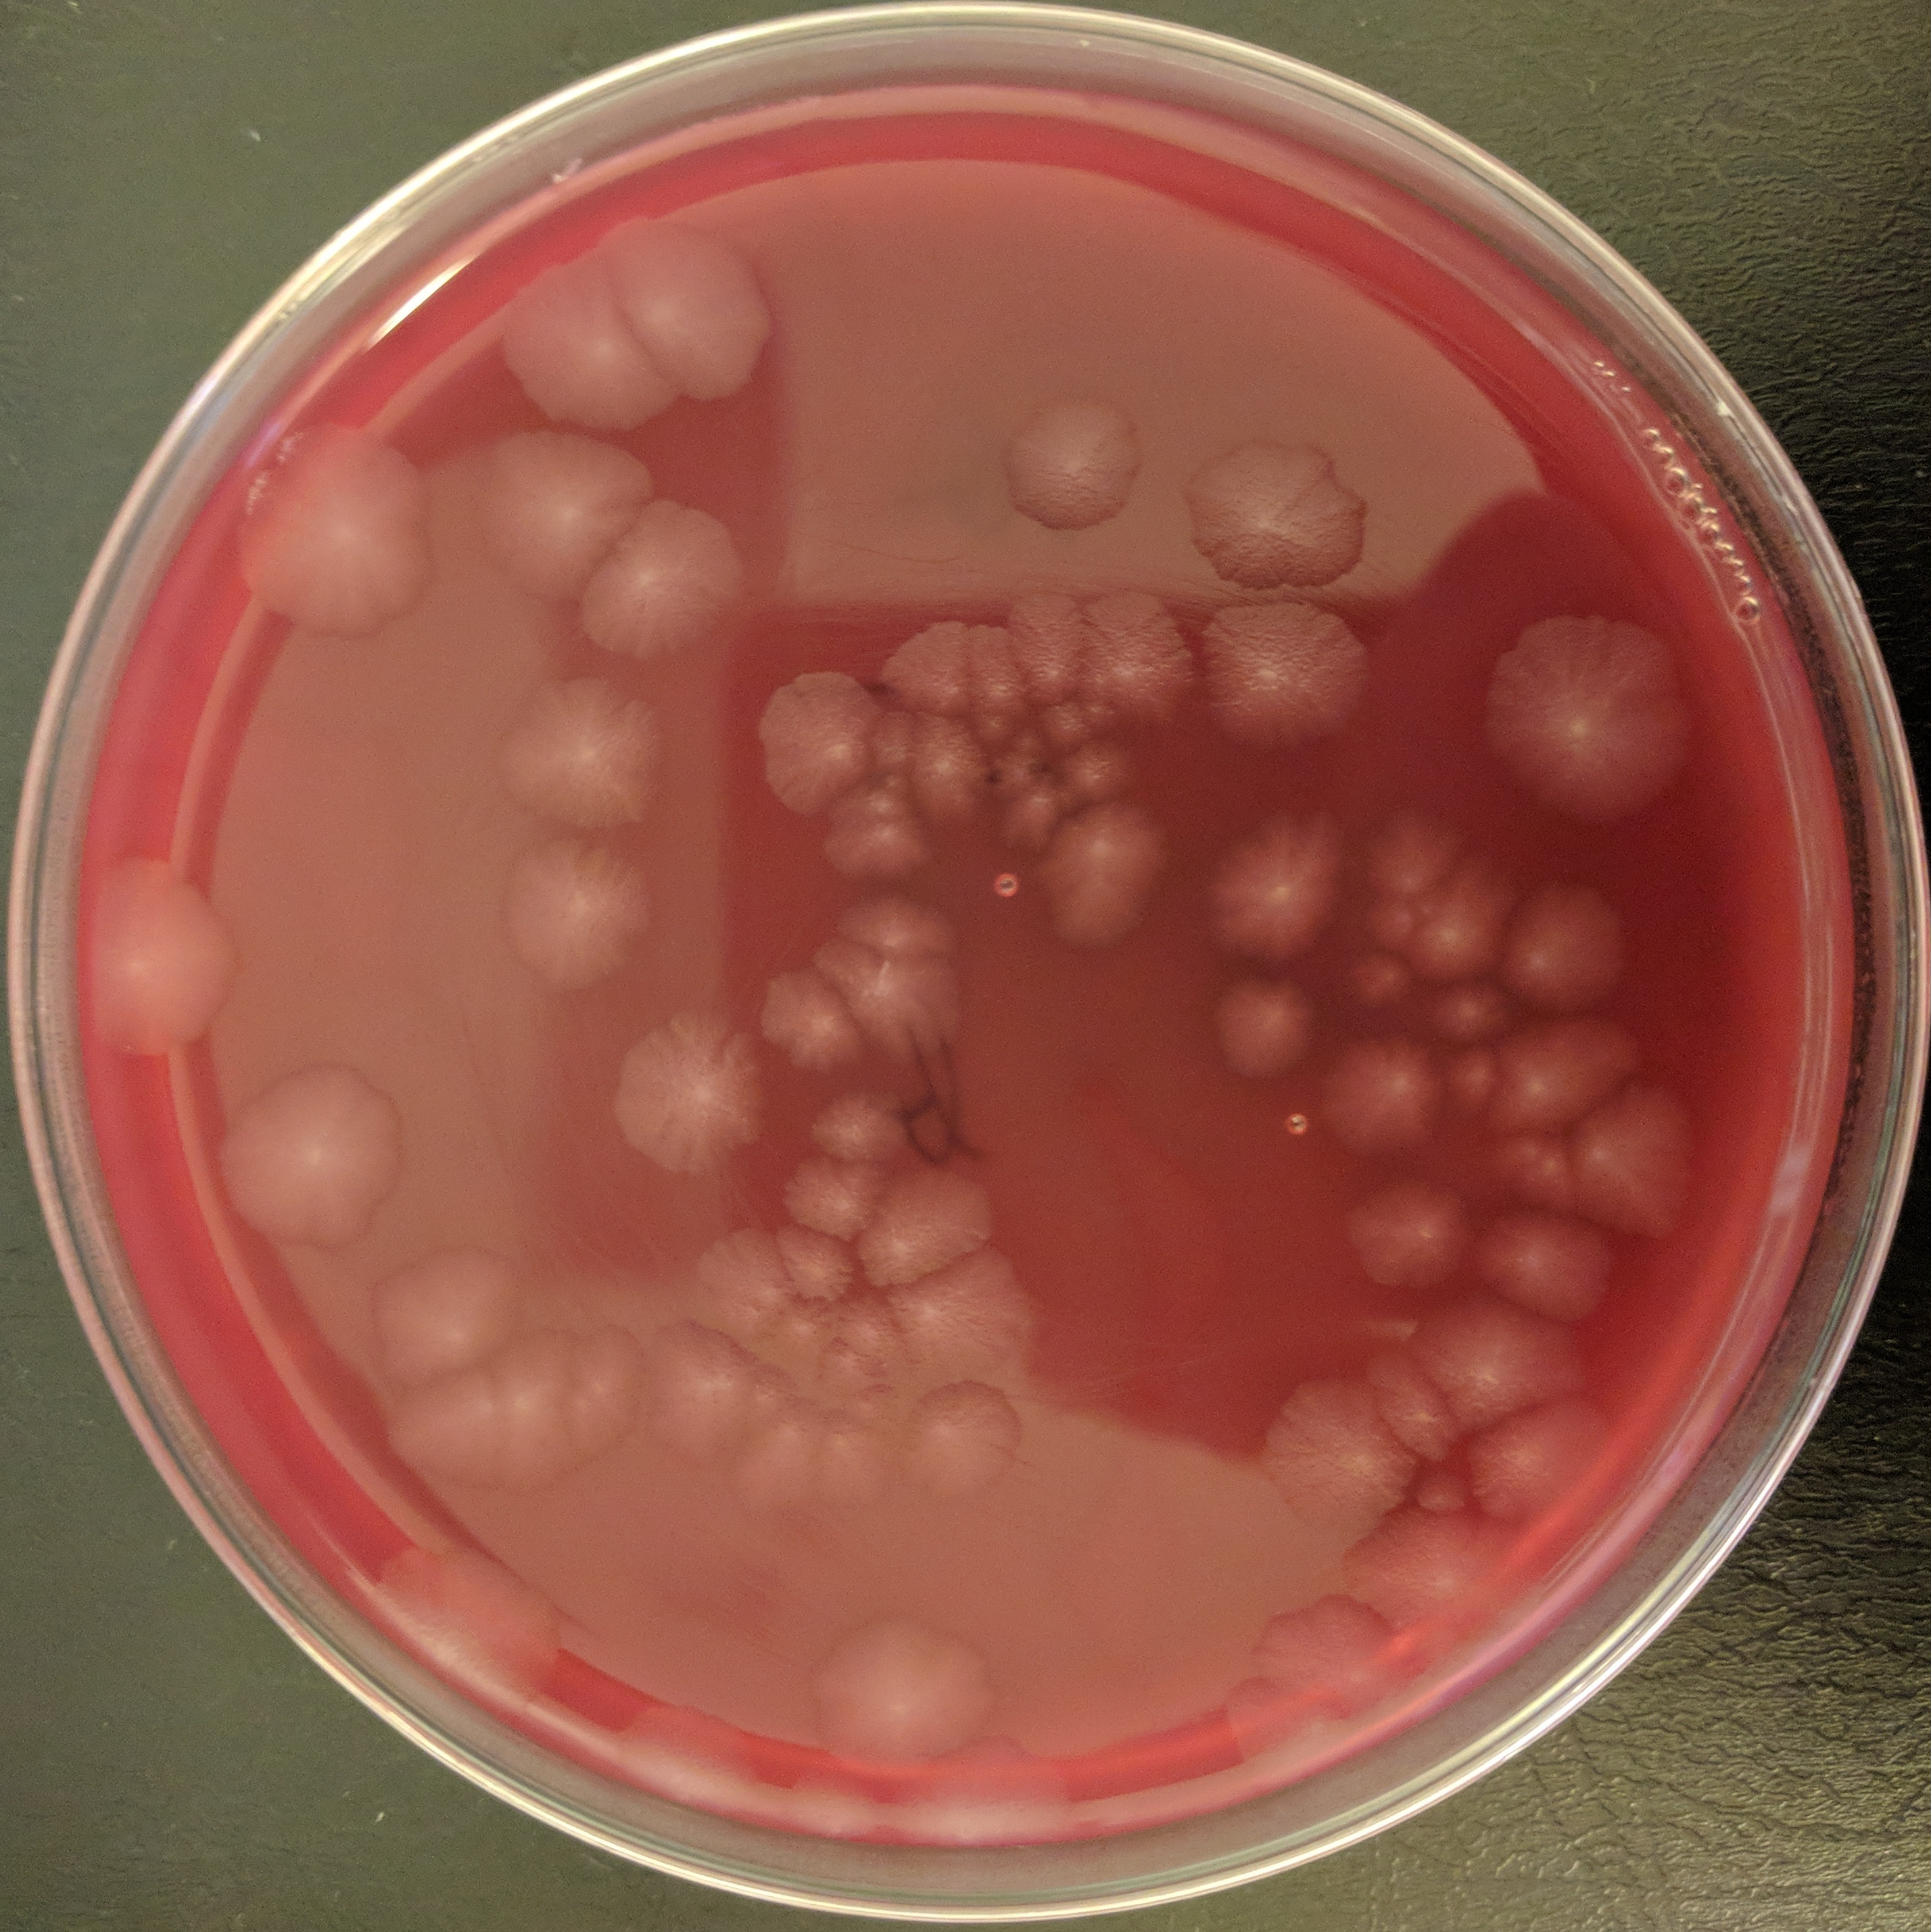sp08: (1485, 593, 1747, 860), (803, 1566, 1017, 1813), (232, 426, 447, 667), (1174, 426, 1415, 640), (58, 879, 272, 1093), (207, 1060, 421, 1269), (474, 656, 688, 856), (495, 234, 688, 448), (607, 998, 796, 1212), (1225, 1366, 1436, 1546), (481, 826, 679, 1016), (978, 403, 1192, 577), (477, 423, 654, 619), (343, 1539, 571, 1688), (1204, 600, 1402, 766), (354, 1238, 546, 1398), (492, 1316, 647, 1513), (359, 1343, 513, 1530), (736, 653, 895, 830), (587, 501, 753, 660), (1199, 826, 1369, 975), (1319, 1168, 1496, 1309), (799, 941, 983, 1076), (1349, 1509, 1528, 1642), (1047, 839, 1185, 1005), (1296, 1028, 1459, 1164), (638, 226, 762, 400), (607, 1688, 764, 1821), (1572, 1100, 1706, 1251), (1425, 1302, 1583, 1430), (1240, 1596, 1418, 1706), (1477, 1407, 1613, 1550), (799, 771, 932, 911), (1501, 1012, 1641, 1143), (1492, 1196, 1616, 1343), (815, 890, 992, 993), (895, 1265, 1047, 1384), (1482, 860, 1604, 1005), (1192, 968, 1317, 1108), (752, 961, 877, 1090), (904, 1375, 1015, 1516), (803, 1398, 920, 1532), (856, 1175, 1010, 1270), (653, 1320, 755, 1461), (1073, 600, 1192, 722), (1358, 1339, 1464, 1467), (927, 1748, 1077, 1836), (1188, 1663, 1324, 1753), (985, 593, 1095, 704), (921, 609, 1029, 715), (693, 1221, 796, 1332), (1420, 874, 1521, 984), (881, 600, 969, 722), (1358, 803, 1468, 901), (1489, 1122, 1595, 1214), (746, 1398, 822, 1516), (893, 732, 992, 823), (808, 1093, 911, 1178), (780, 1775, 881, 1854), (1059, 738, 1160, 816), (775, 1159, 877, 1233), (776, 1228, 865, 1313), (1416, 982, 1523, 1046), (835, 1292, 904, 1382), (988, 778, 1066, 855), (767, 1297, 840, 1378), (990, 713, 1056, 798), (1360, 895, 1431, 962), (1450, 1047, 1508, 1125), (1339, 961, 1409, 1016)
